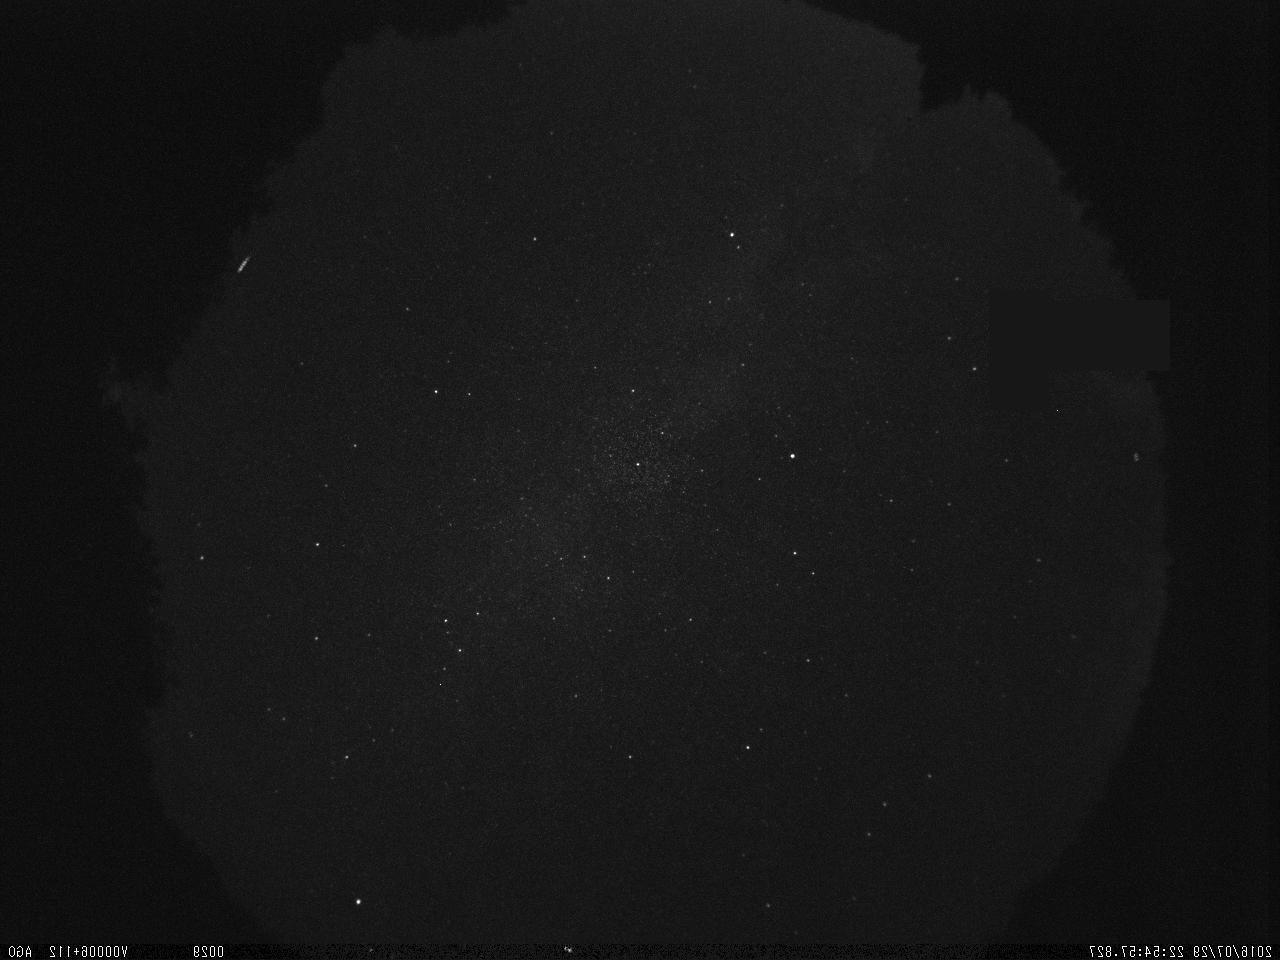meteor: (227, 239, 262, 295)
